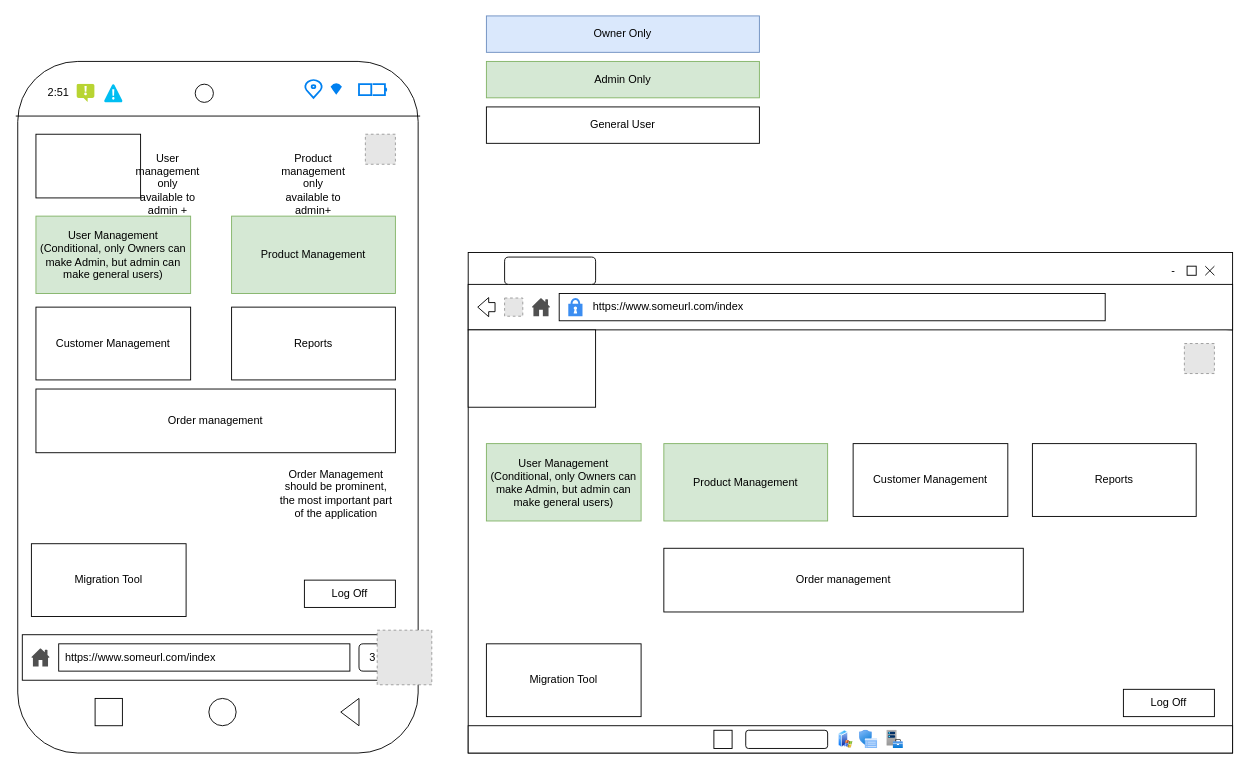
This 1250x769 diagram has some shape labels left out. Grey dashed boxes stand in for pictures. Here are the shapes that lost their labels. From the top down, the centre of each, then its label:
At pixel 88 165: "Logo".
At pixel 550 270: "Tab".
At pixel 531 368: "Company Logo".
At pixel 786 738: "Search".
